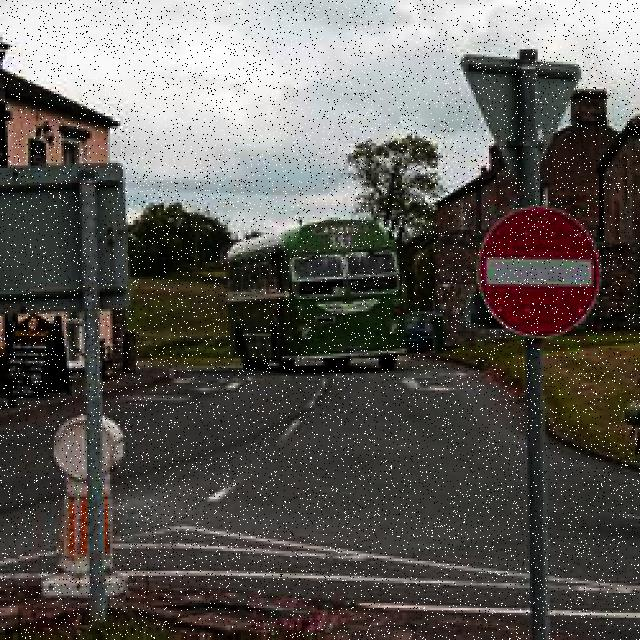no entry: (479, 205, 604, 339)
